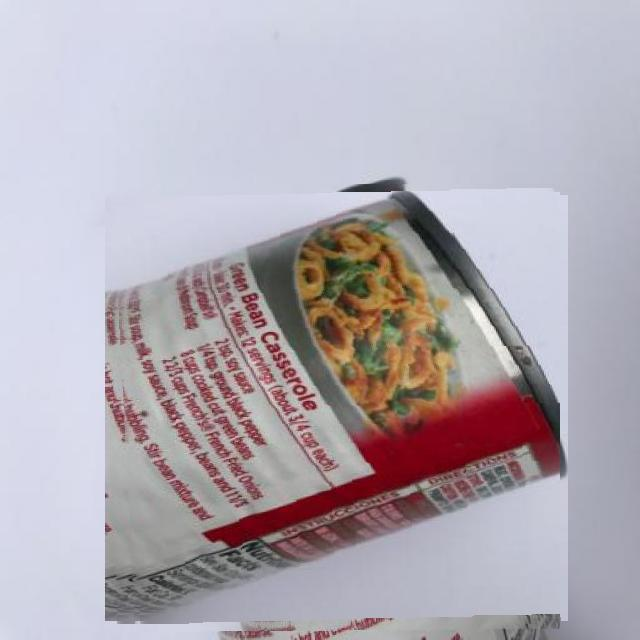recyclable: (112, 184, 560, 632)
